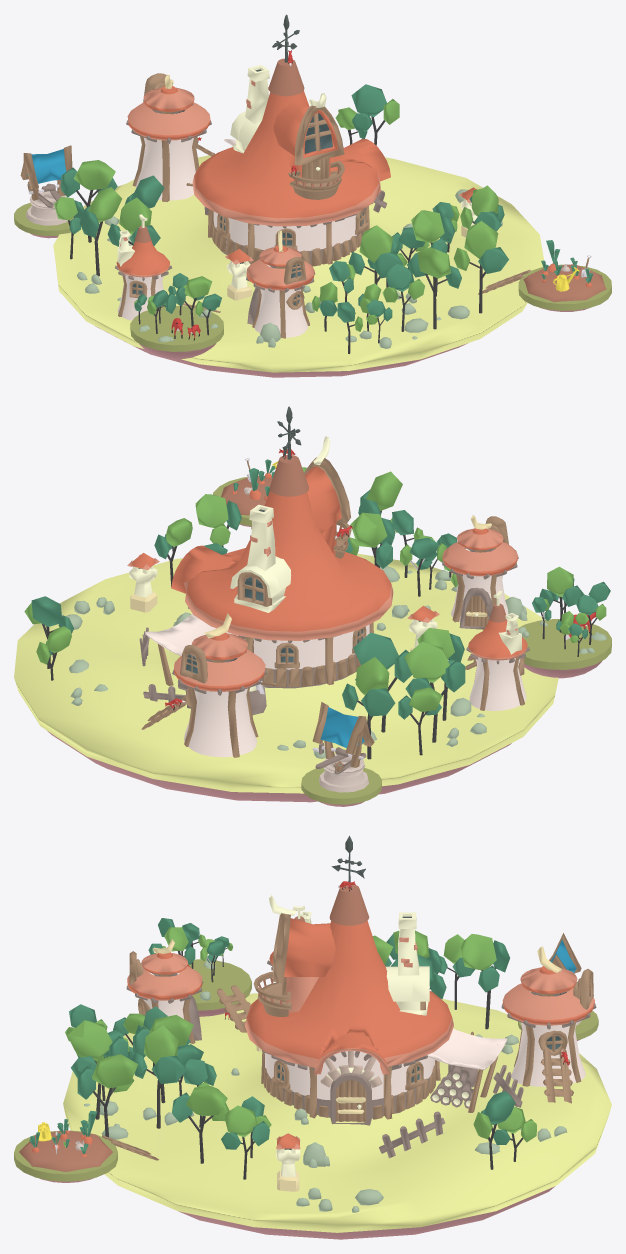
Rendered from island.glb.
The picture shows the model from 3 angles, top to bottom: view 1: azimuth 30°, elevation 25°; view 2: azimuth 150°, elevation 25°; view 3: azimuth 270°, elevation 25°; orthographic projection. The views are drawn at different scales.
Parts seen in each view (by area): view 1: pCube11_rocks1_0, polySurface946_tree2_0.004, polySurface946_tree2_0, polySurface946_tree2_0.002, polySurface946_tree2_0.003, polySurface947_tree1_0.003; view 2: pCube11_rocks1_0, polySurface946_tree2_0.002, polySurface946_tree2_0.003; view 3: pCube11_rocks1_0, polySurface946_tree2_0.003, polySurface946_tree2_0.004, polySurface946_tree2_0, polySurface947_tree1_0, polySurface946_tree2_0.002.
Part boxes in pixels (x1,y1,x2,y2): pCube11_rocks1_0: (14,14,611,377); polySurface946_tree2_0.004: (464,221,498,258); polySurface946_tree2_0: (411,210,444,242); polySurface946_tree2_0.002: (359,225,393,262); polySurface946_tree2_0.003: (417,247,451,278); polySurface947_tree1_0.003: (478,247,508,273); pCube11_rocks1_0: (14,406,611,806); polySurface946_tree2_0.002: (350,512,387,547); polySurface946_tree2_0.003: (366,471,402,510); pCube11_rocks1_0: (14,835,611,1239); polySurface946_tree2_0.003: (67,1020,112,1060); polySurface946_tree2_0.004: (92,1054,138,1088); polySurface946_tree2_0: (144,1025,178,1064); polySurface947_tree1_0: (151,1055,186,1083); polySurface946_tree2_0.002: (149,1015,193,1046).
Bounding box in the file's own units: 54.95 × 36.38 × 58.8.
3 materials, 2 textured.
